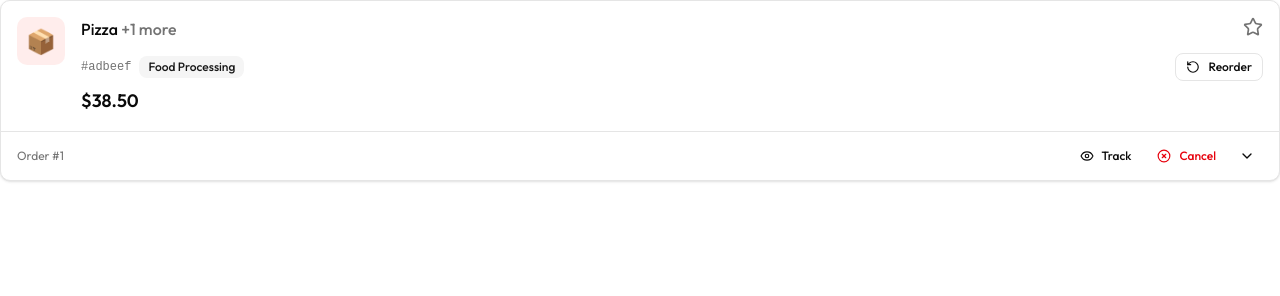
Test case: OrderCard › expands to show item details when expand button is clicked
Check: the text "Items:" is not shown
Click expand - find the last button (chevron)
Click the 5th button.
click(1247, 156)  # box [1231,140,1263,172]
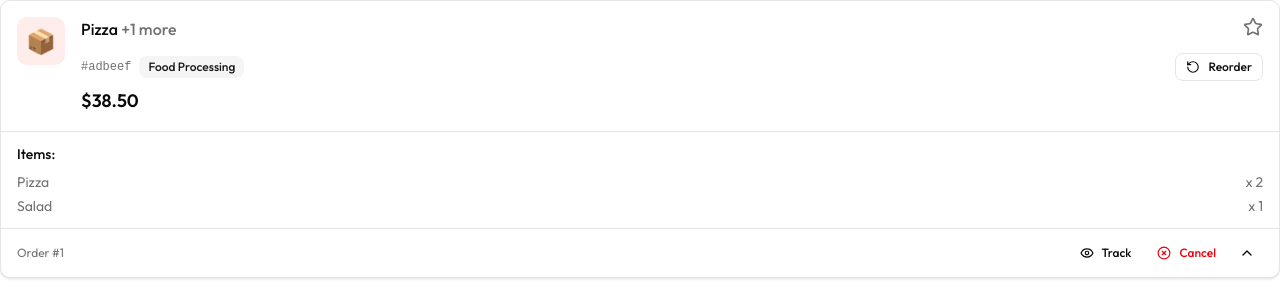
Check: the heading "Items:" is shown, box [17,145,55,163]
Check: the text "x 2" is shown, box [1246,172,1263,192]
Check: the text "x 1" is shown, box [1248,196,1263,216]
